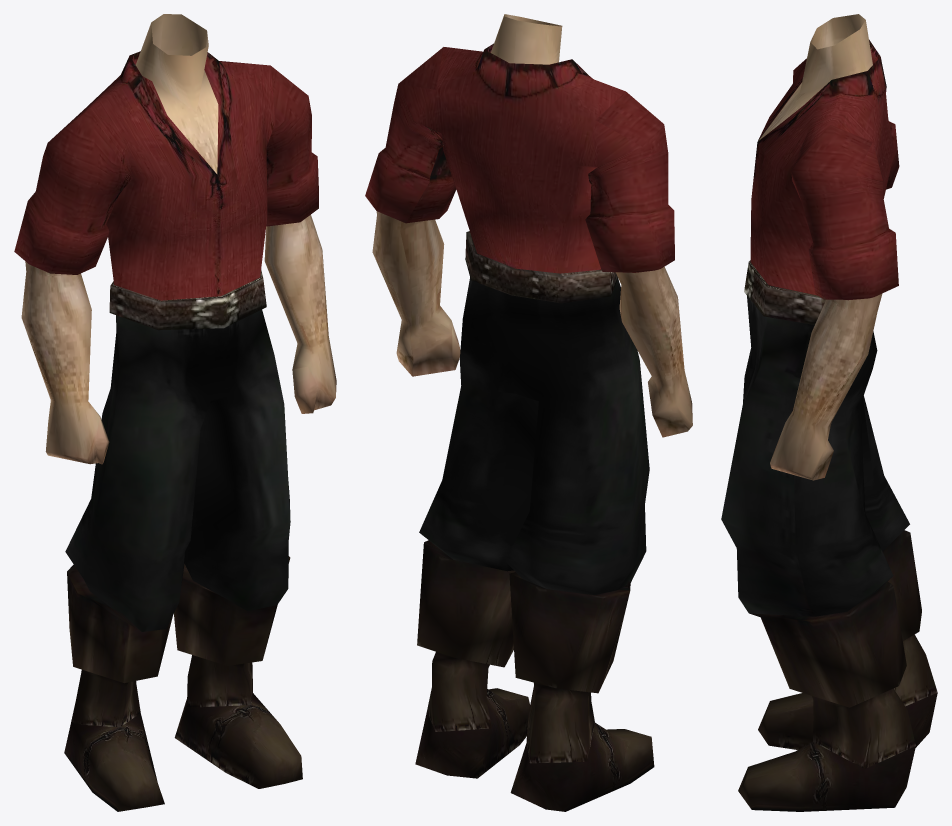
Rendered from KOSZULA_CZERWONA.glb.
3 renders of one model, left to right at view 1: azimuth 30°, elevation 25°; view 2: azimuth 150°, elevation 25°; view 3: azimuth 270°, elevation 25°, orthographic.
Visible parts, largest first — view 1: KOSZULA_CZERWONA; view 2: KOSZULA_CZERWONA; view 3: KOSZULA_CZERWONA.
Boxes of the visible parts, box(x1,y1,x2,y2) form: KOSZULA_CZERWONA: box(14, 14, 336, 811); KOSZULA_CZERWONA: box(365, 14, 692, 811); KOSZULA_CZERWONA: box(721, 14, 937, 811).
Size of the model in its own units: 0.6885 by 1.68 by 0.4402.
2 materials, 2 textured.
